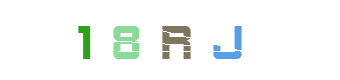1: (91, 0, 171, 80)
8: (107, 0, 187, 80)
J: (191, 0, 271, 80)
R: (130, 0, 210, 80)
